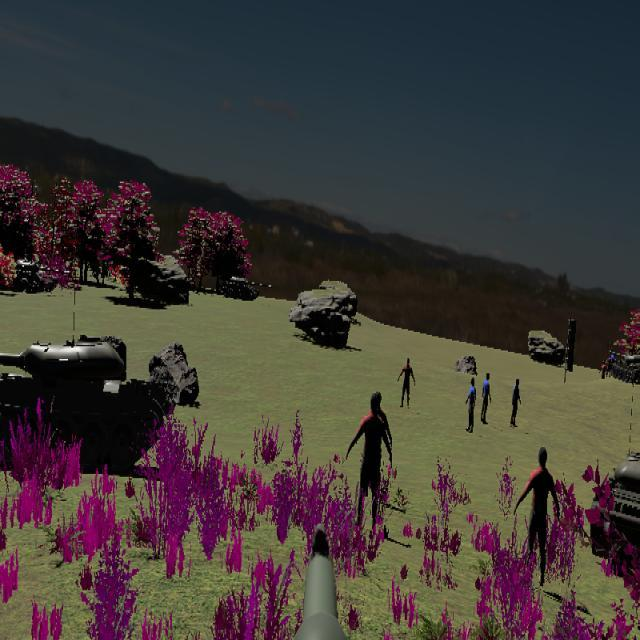Human: (513, 446, 562, 587)
Tank: (0, 333, 186, 470), (590, 450, 640, 577), (2, 258, 70, 294), (220, 274, 271, 301), (612, 351, 640, 384)
